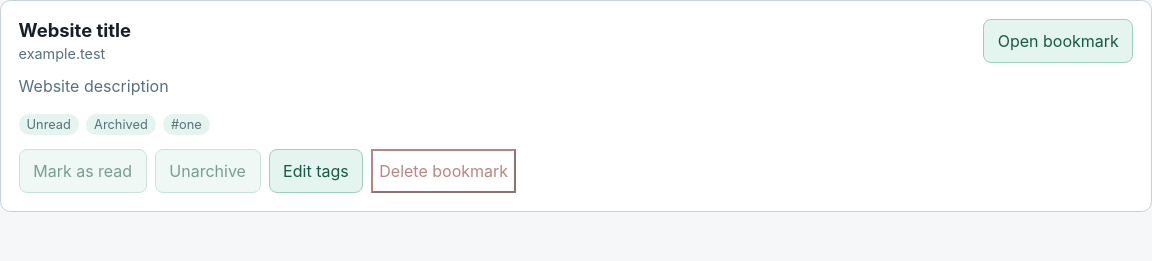
Scenario: BookmarkRow › shows opener failures without changing bookmark state
Click the button "Open bookmark": (1058, 41) [983,19,1133,63]
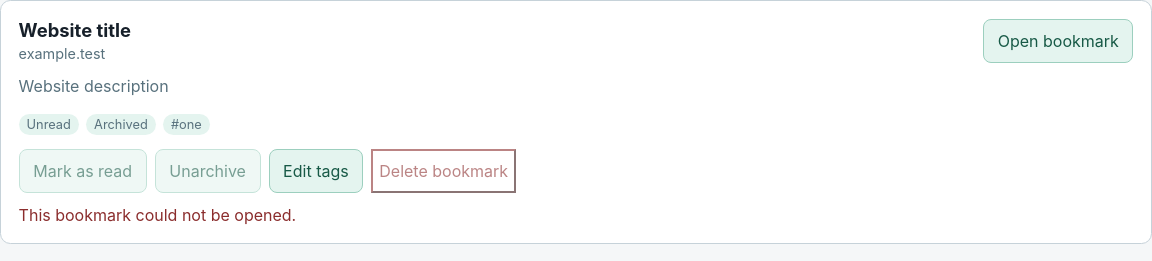
Now the message shows "could not be opened", box [19,205,296,225]
